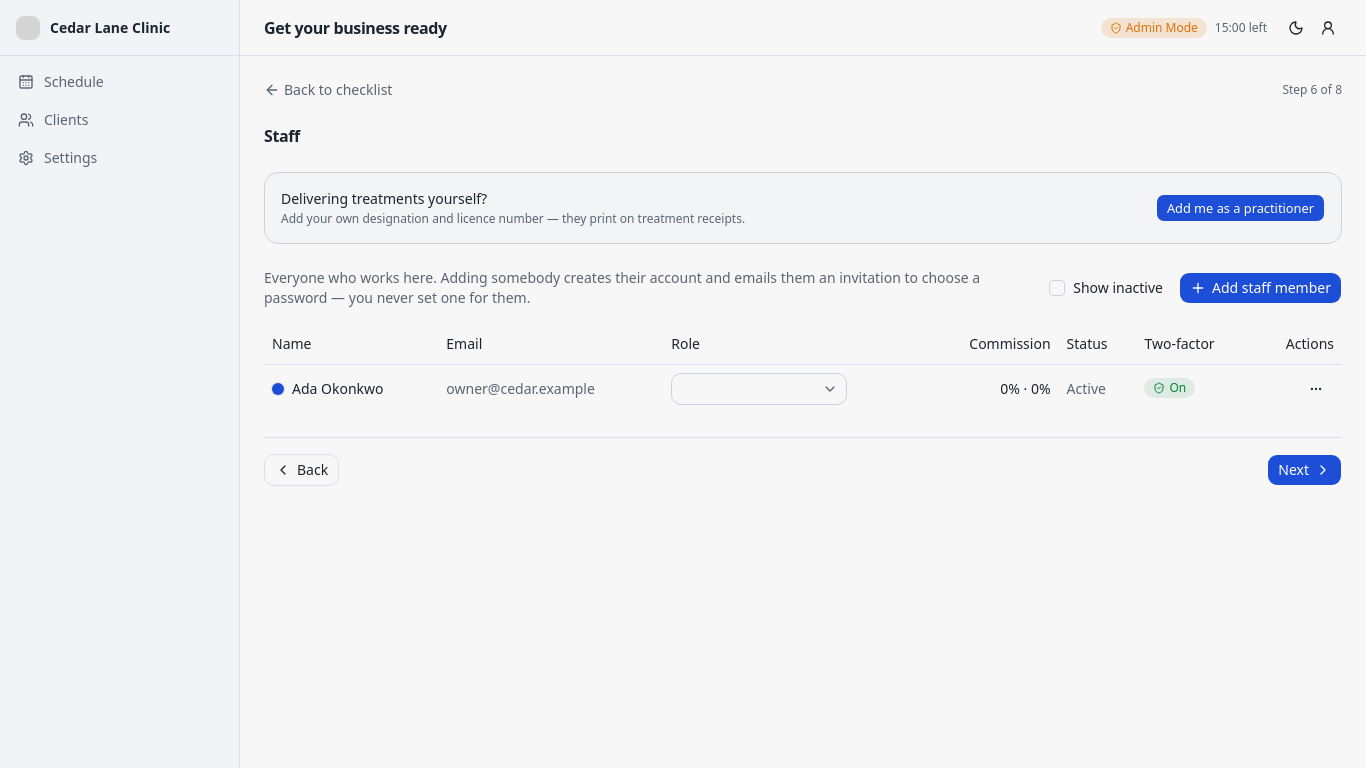
Test case: the staff step offers to add the signed-in administrator as a practitioner
The image size is (1366, 768).
Click the button "Add me as a practitioner" at (1240,208), box [1156, 194, 1325, 222]
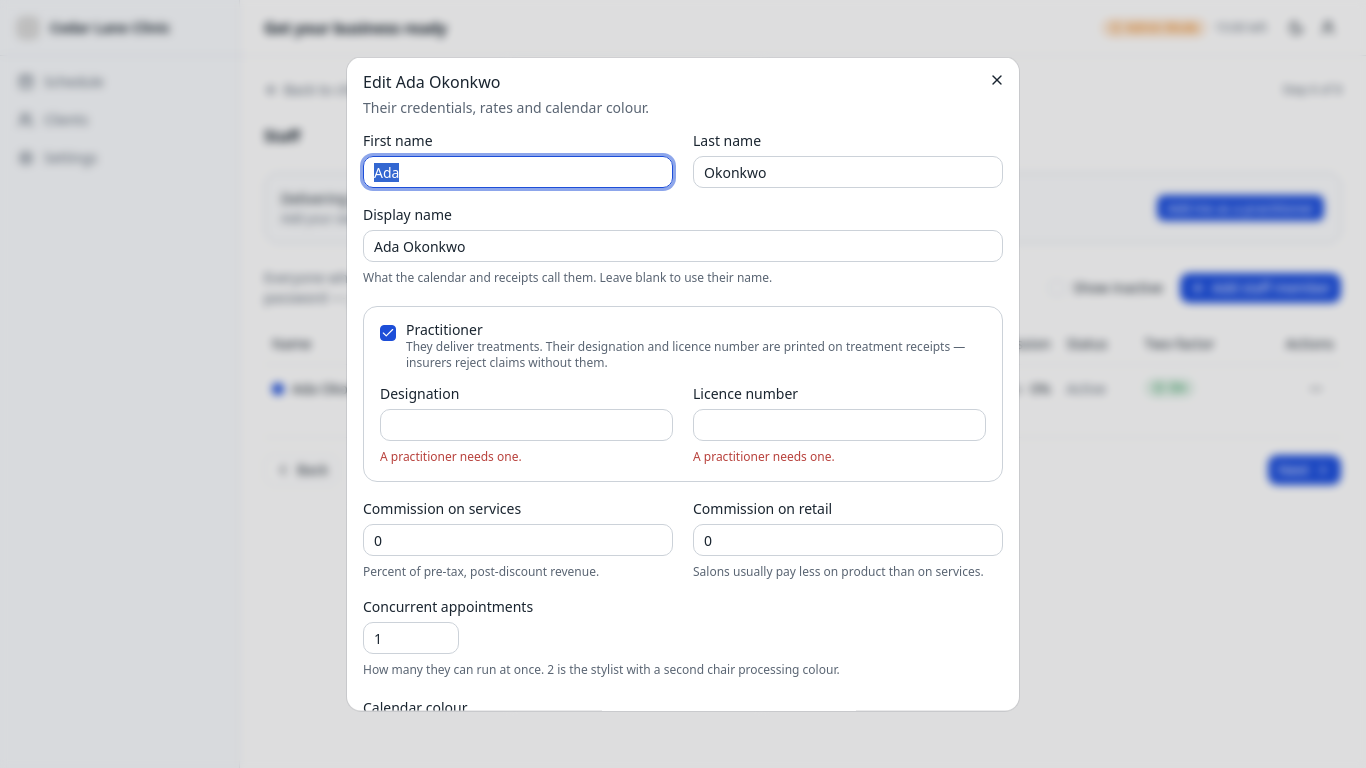
Expected: the dialog shows "Edit Ada Okonkwo", [363, 71, 500, 93]
Expected: the checkbox named "Practitioner" is checked, [380, 325, 396, 341]
Type "RMT" into the field labelled "Designation" at (526,425), box [380, 409, 673, 441]
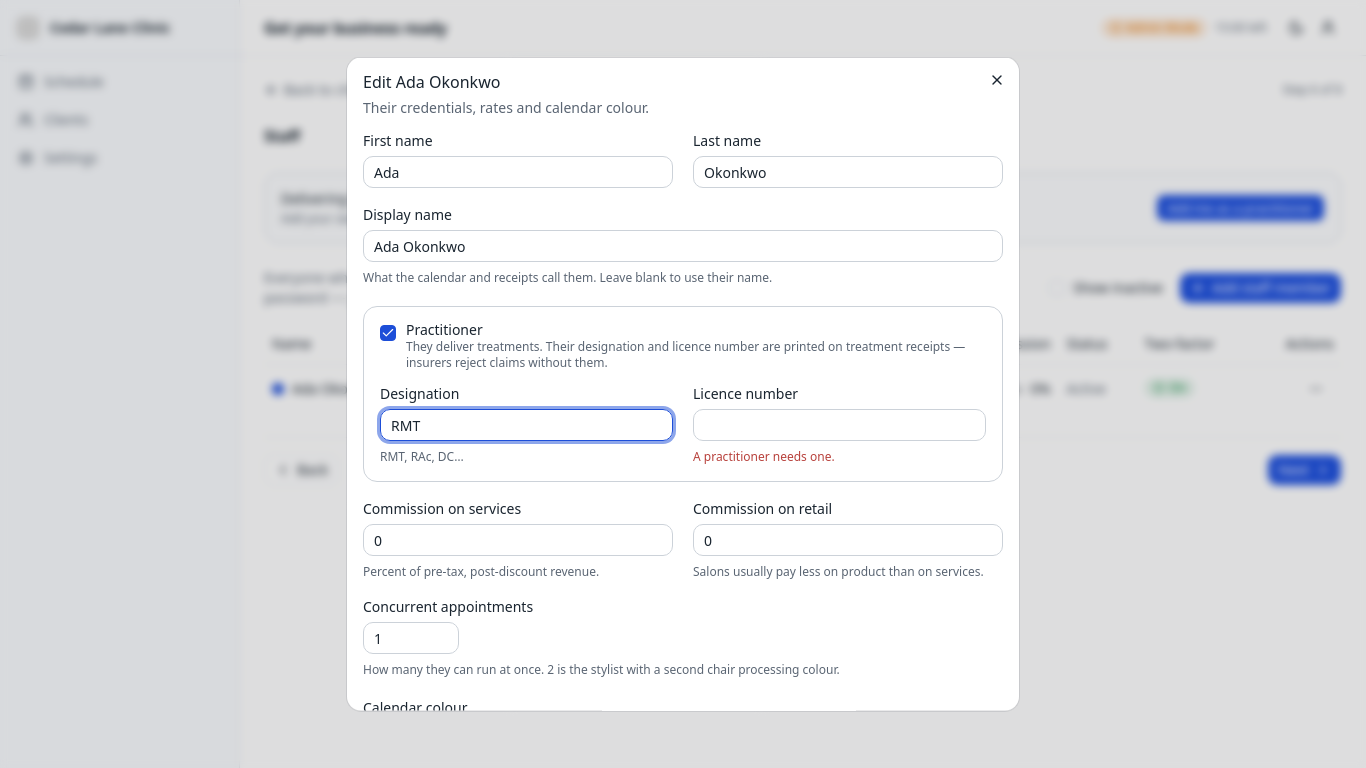
Type "#98765" into the field labelled "Licence number" at (840,425), box [693, 409, 986, 441]
(page scrolled)
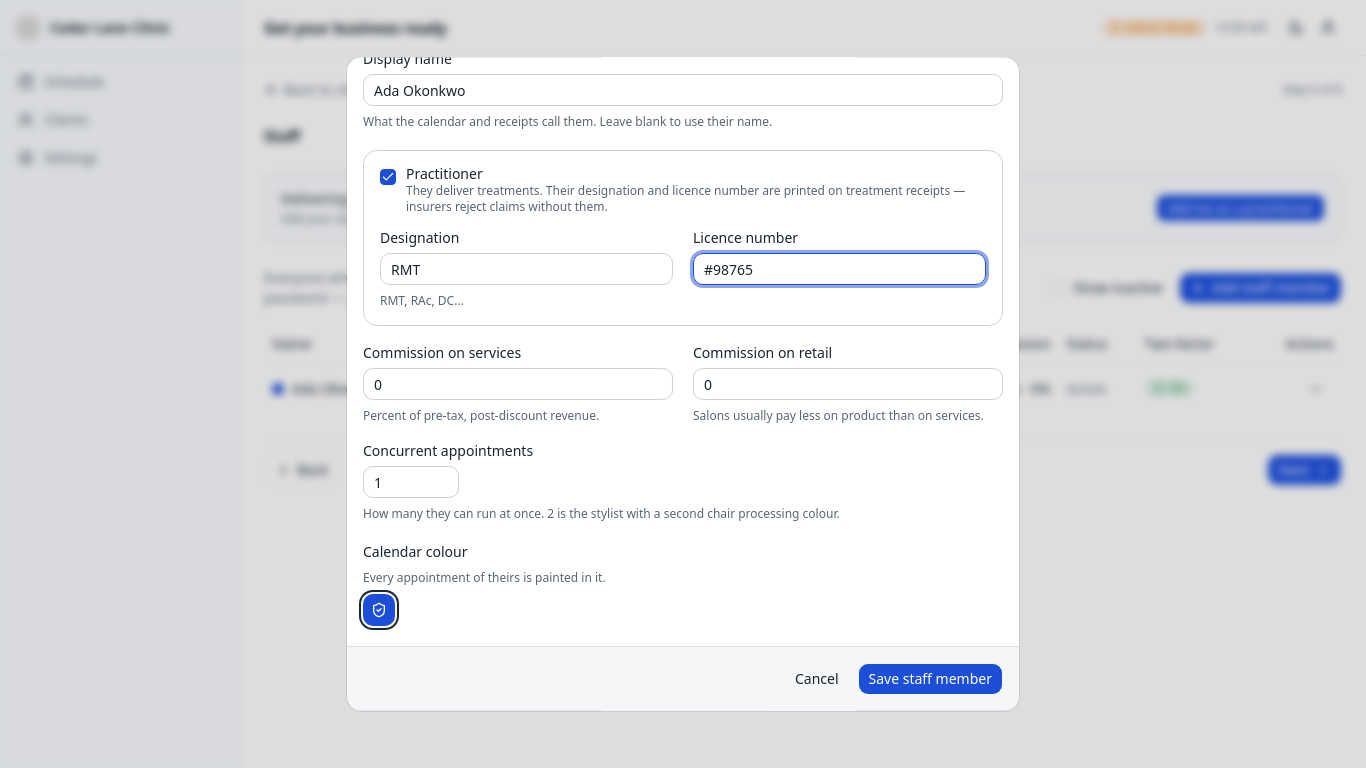
Click the button "Save staff member" at (930,679), box [858, 663, 1003, 695]
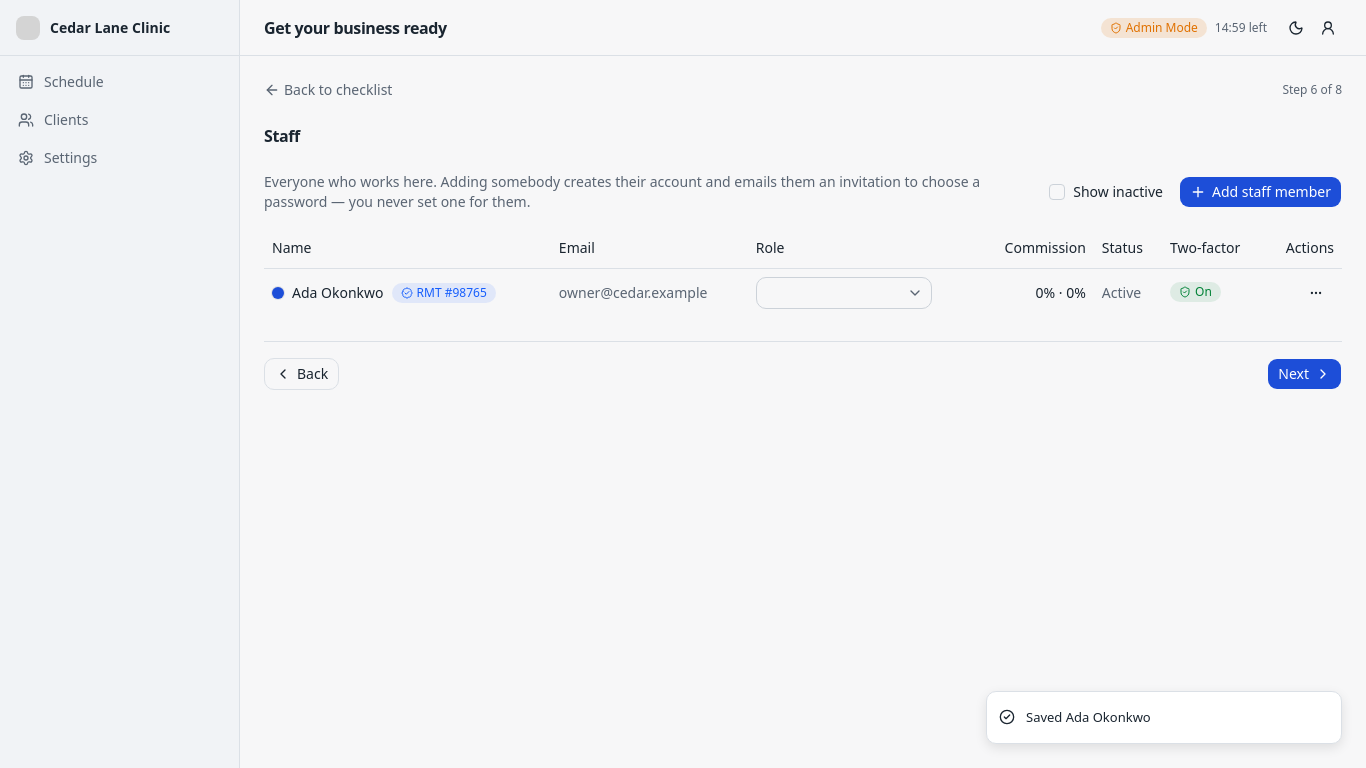
Expected: the button "Add me as a practitioner" is gone
